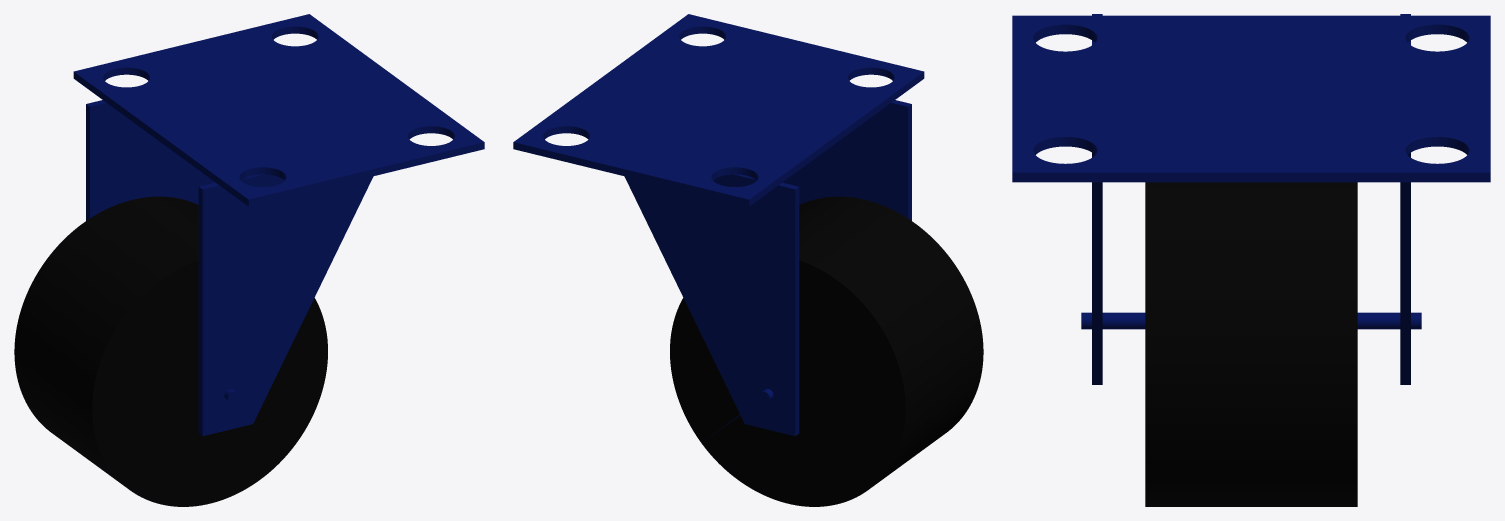
File: caster_wheel.dae
The picture shows the model from 3 angles, left to right: view 1: azimuth 30°, elevation 25°; view 2: azimuth 150°, elevation 25°; view 3: azimuth 270°, elevation 25°; orthographic projection. The views are drawn at different scales.
Visible parts, largest first — view 1: testing_freecad_color.001; view 2: testing_freecad_color.001; view 3: testing_freecad_color.001.
Boxes of the visible parts, bbox=[...] form: testing_freecad_color.001: bbox=[14, 14, 484, 506]; testing_freecad_color.001: bbox=[513, 14, 983, 506]; testing_freecad_color.001: bbox=[1012, 14, 1490, 506].
Bounding box in the file's own units: 51 × 45 × 48.49.
